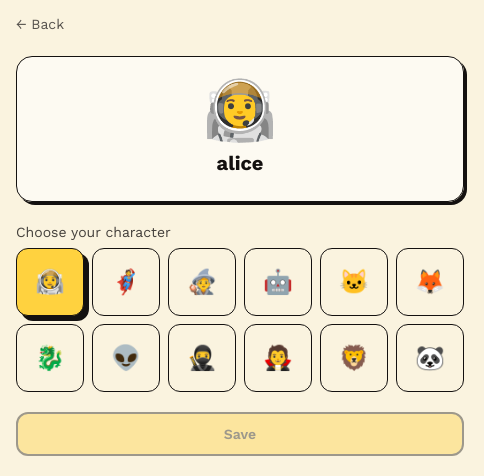
Test: ProfilePage › disables Save until a different avatar is picked
The image size is (484, 476).
Check: the button "Save" is disabled, box [16,412,464,456]
Click the button named "Robot": (278, 282) [244,248,312,316]
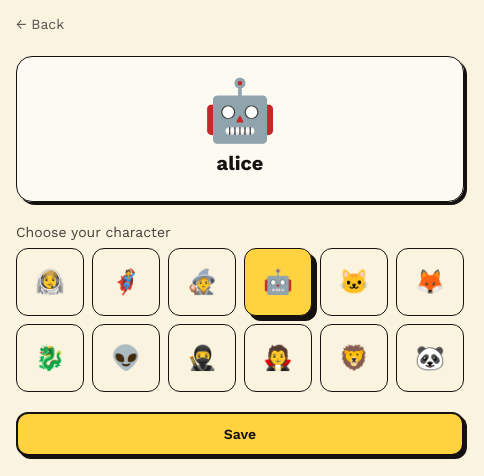
Check: the button "Save" is enabled, box [16,412,464,456]
